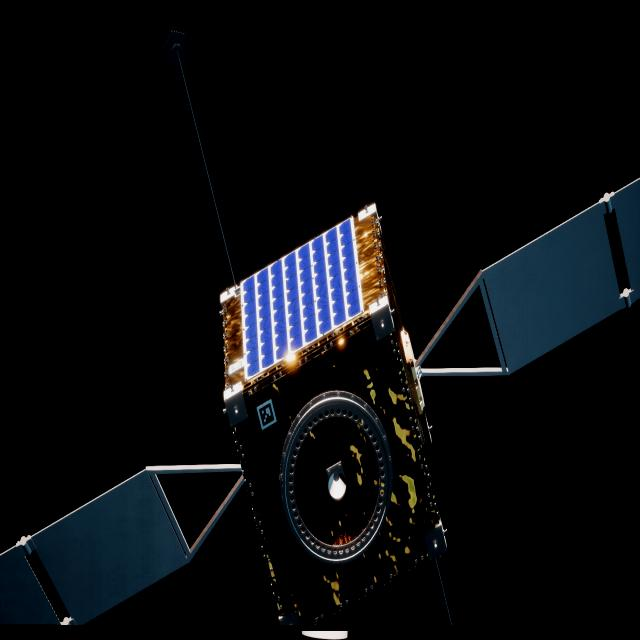medium_debris: (0, 178, 640, 634)
